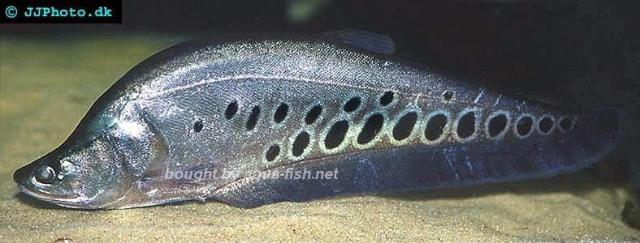Mulut: (10, 154, 91, 216)
Sirip Dada: (125, 155, 231, 209)
Sirip Punggung: (314, 19, 402, 65)
